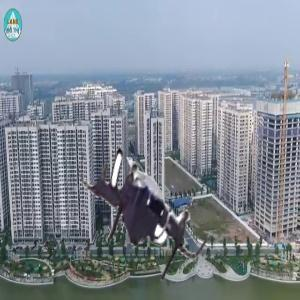drone: (63, 132, 220, 289)
